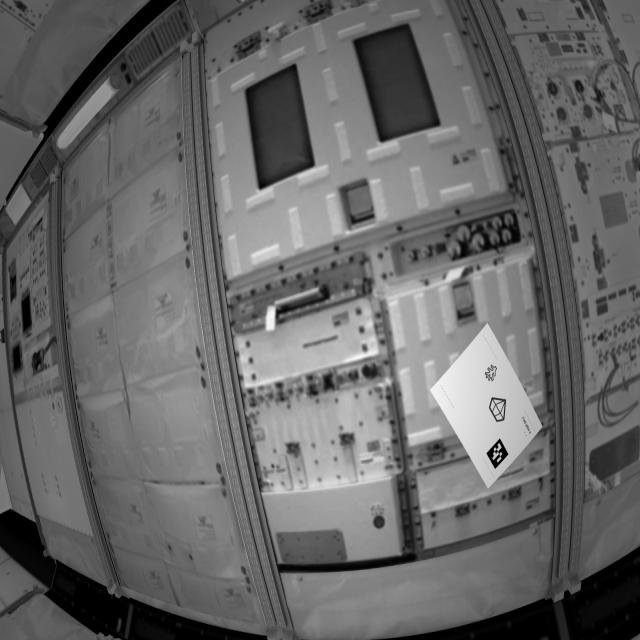coral: (481, 363, 500, 386)
diamond: (488, 395, 512, 430)
